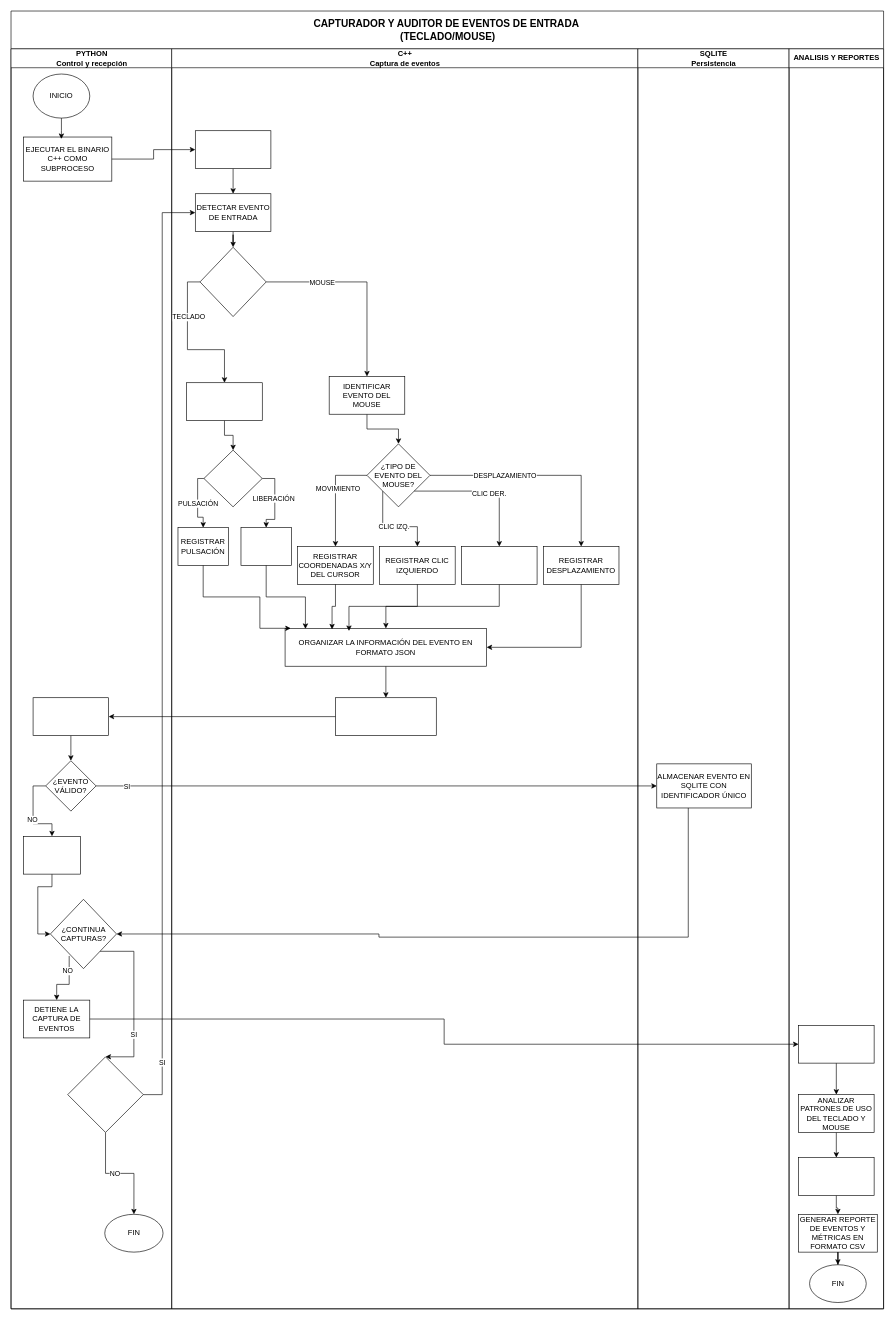
Image size: 895x1320. Some labels were removed from this diagram. Each missing label, with the centre of its shape:
CALCULAR TIEMPO DE ACTIVIDAD MOUSE Y TECLADO: point 836,1044
ENVIAR EL EVENTO JSON MEDIANTE stdout: point 385,716
GENERAR MAPA DE CALOR O DISTRIBUCION POR HORAS: point 836,1176
IDENTIFICAR EVENTO DEL TECLADO: point 224,401
INICIAR LA CAPTURA DE EVENTOS DE TECLADO Y MOUSE: point 233,149
LEER EL EVENTO DESDE stdout EN TIEMPO REAL: point 70,716
REGISTRAR CLIC DERECHO: point 499,565
REGISTRAR EVENTO INVÁLIDO: point 51,855
REGISTRAR LIBERACIÓN: point 265,546
¿PROCESO C++ SIGUE EN EJECUCIÓN?: point 105,1094
¿TIPO DE DISPOSITIVO?: point 232,282
¿TIPO DE EVENTO DEL TECLADO?: point 232,478
